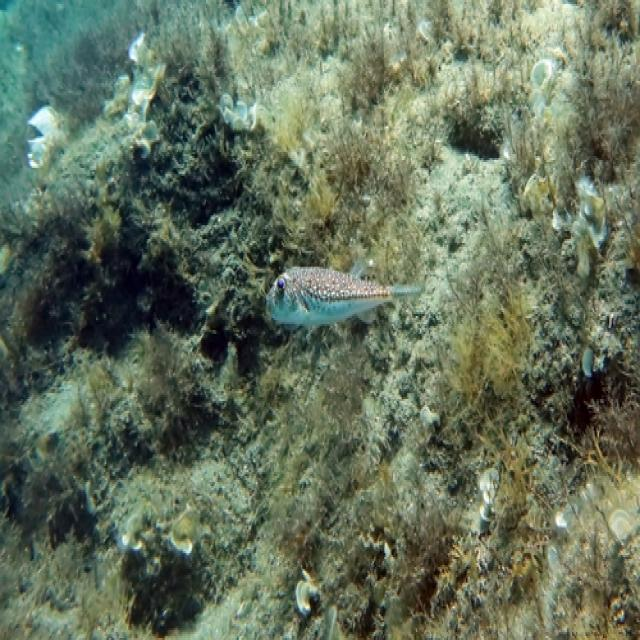Balik: (267, 265, 422, 325)
